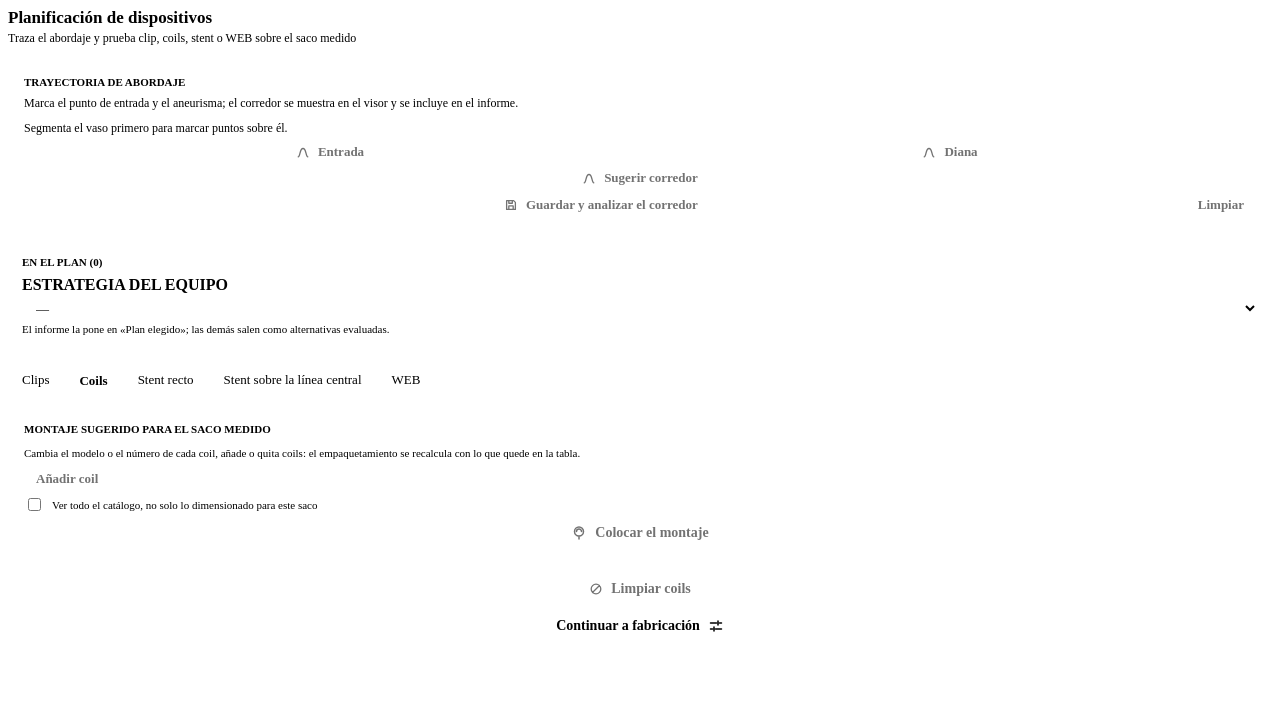
Test case: una sola vía de coils (decisión nº 24) › «Volver a la sugerencia» deshace lo editado
Click the button "Coils".
click(94, 380)  # box [66,364,122,398]
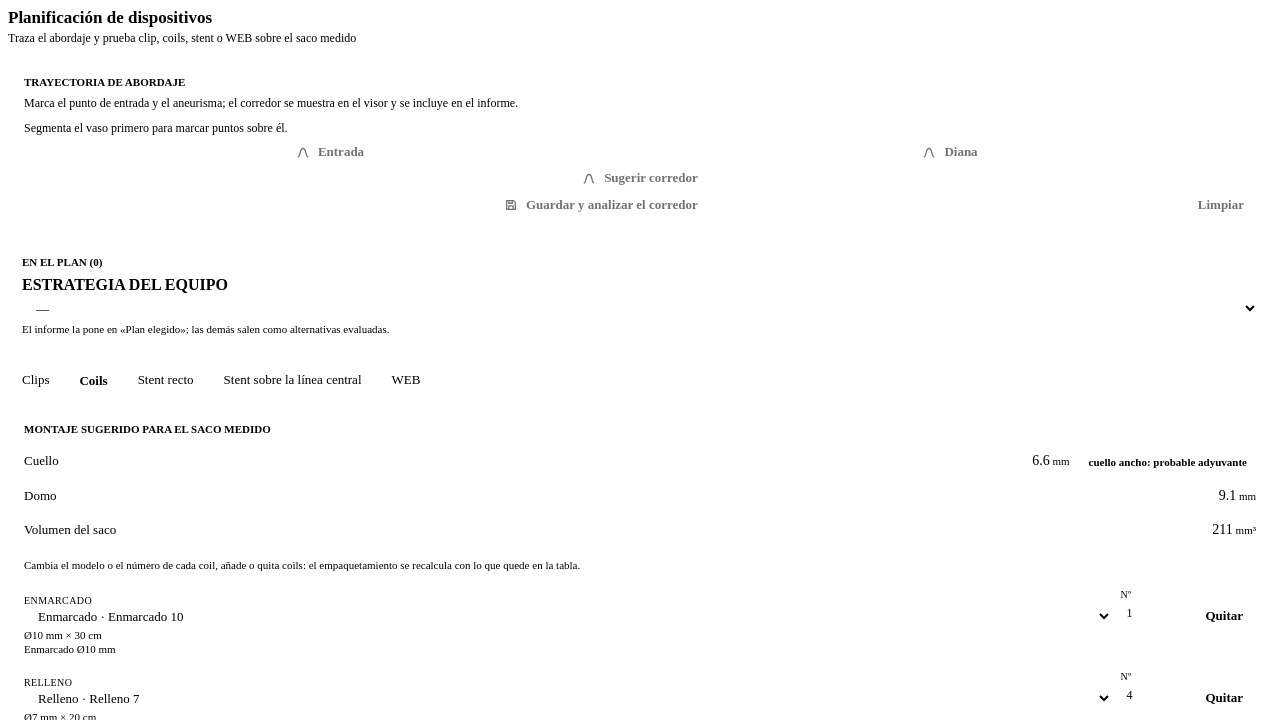
Now the dropdown named "Modelo (fila 1)" is shown, box [24,608,1112,625]
Replace the text in the 2nd number field labelled "Nº" with "9" at (1158, 696), box [1120,684,1196,707]
(page scrolled)
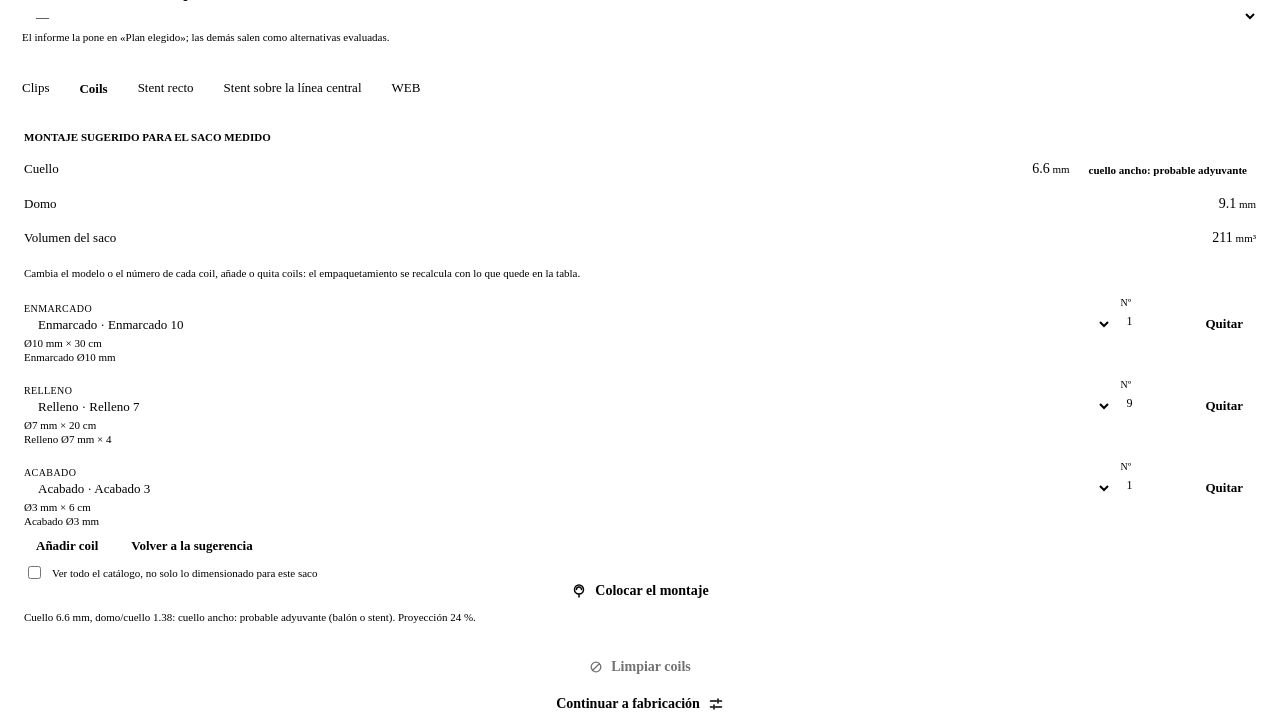
Click the button "Volver a la sugerencia".
click(192, 546)  # box [118,537,266,555]
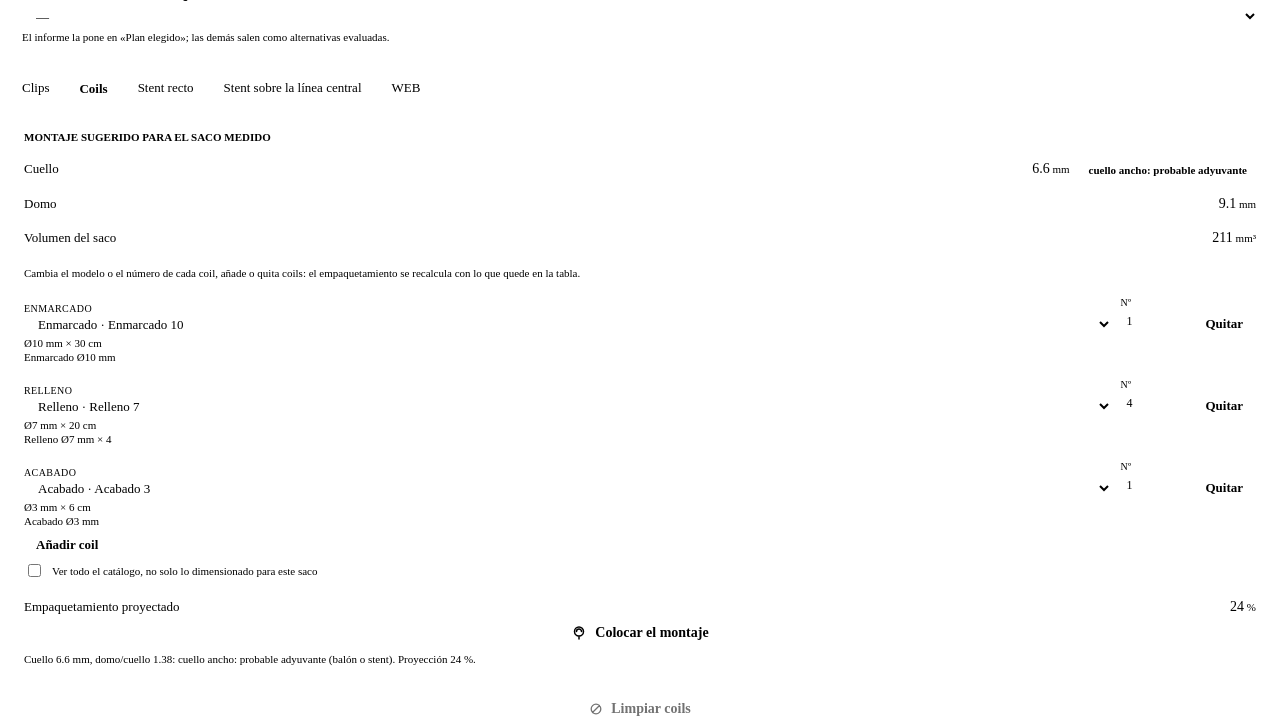
Now the text "24" is shown, box [1230,599,1244,614]
